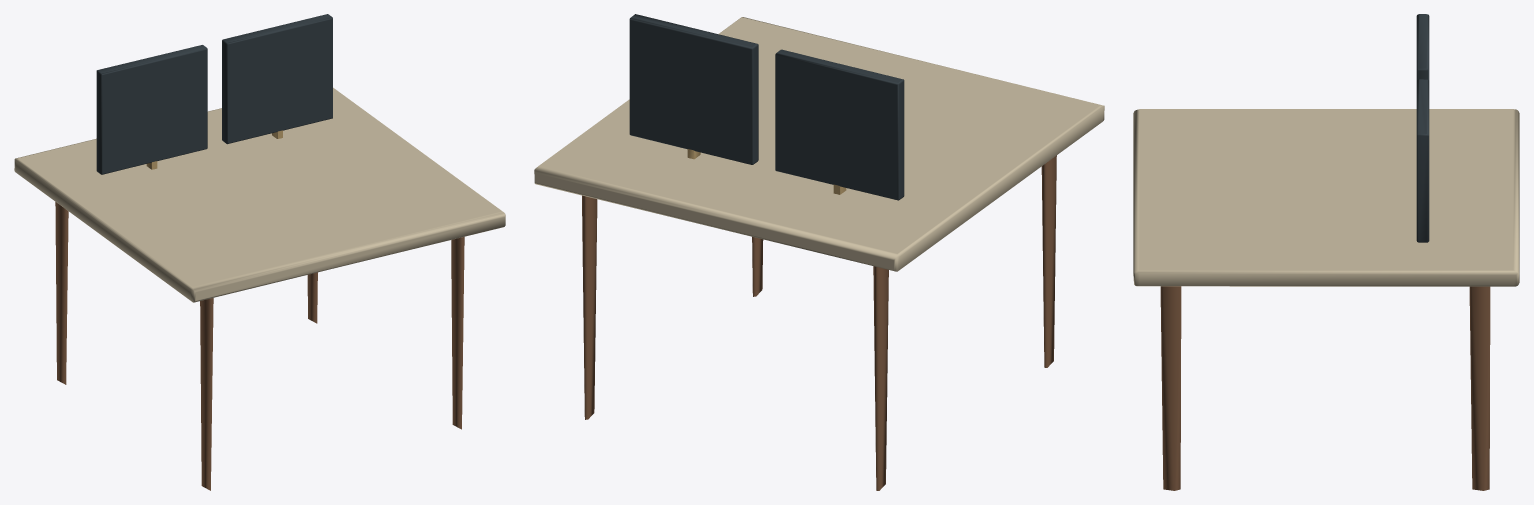
File: desk-20-0.lod.glb
3 renders of one model, left to right at view 1: azimuth 30°, elevation 25°; view 2: azimuth 150°, elevation 25°; view 3: azimuth 270°, elevation 25°, orthographic. The views are drawn at different scales.
Visible parts, largest first — view 1: upholstery (×2), part; view 2: upholstery (×2), part; view 3: upholstery (×2), part.
Boxes of the visible parts, x1,y1,x2,y2 form: upholstery (×2): (14, 14, 505, 302); part: (55, 202, 464, 490); upholstery (×2): (534, 14, 1104, 271); part: (582, 155, 1056, 490); upholstery (×2): (1133, 14, 1519, 286); part: (1160, 286, 1490, 490).
Bounding box in the file's own units: 1 × 1 × 1.
